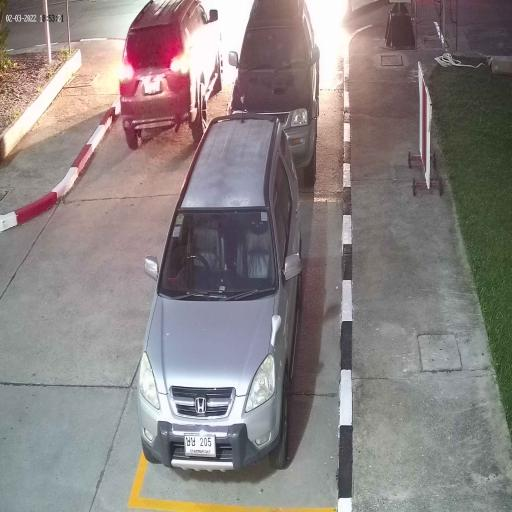car: (137, 114, 305, 474), (226, 0, 321, 188), (118, 0, 224, 149)
